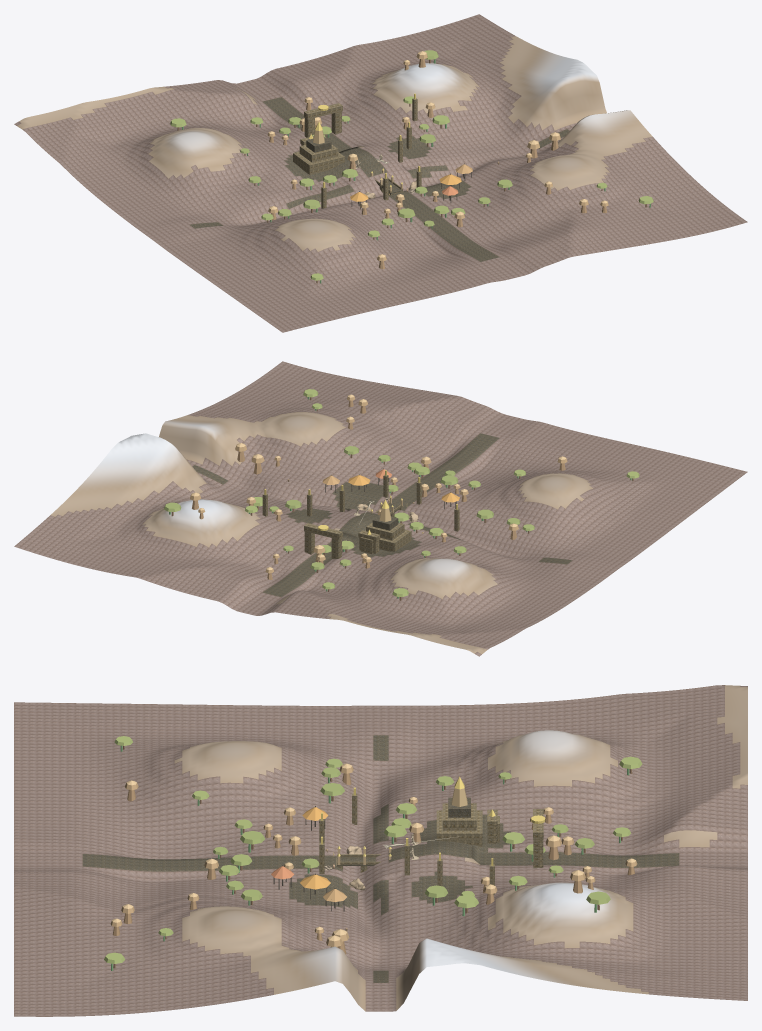
The model's file is world.glb.
3 views of the same model, one above another, from view 1: azimuth 30°, elevation 25°; view 2: azimuth 150°, elevation 25°; view 3: azimuth 270°, elevation 25° (orthographic). The views are drawn at different scales.
Parts seen in each view (by area): view 1: kar-veth_Terrain, kar-veth_ImportedCatalogAndFlora, kar-veth_Roads, kar-veth_Masonry; view 2: kar-veth_Terrain, kar-veth_ImportedCatalogAndFlora, kar-veth_Roads, kar-veth_Masonry; view 3: kar-veth_Terrain, kar-veth_ImportedCatalogAndFlora, kar-veth_Roads, kar-veth_Masonry.
Boxes of the visible parts, x1,y1,x2,y2 form: kar-veth_Terrain: [14, 14, 747, 332]; kar-veth_ImportedCatalogAndFlora: [17, 36, 653, 283]; kar-veth_Roads: [189, 97, 569, 261]; kar-veth_Masonry: [293, 98, 421, 208]; kar-veth_Terrain: [14, 361, 747, 656]; kar-veth_ImportedCatalogAndFlora: [50, 389, 639, 653]; kar-veth_Roads: [192, 433, 572, 597]; kar-veth_Masonry: [262, 475, 459, 559]; kar-veth_Terrain: [14, 685, 747, 1016]; kar-veth_ImportedCatalogAndFlora: [104, 685, 747, 1011]; kar-veth_Roads: [82, 735, 679, 982]; kar-veth_Masonry: [319, 793, 543, 894].
Size of the model in its own units: 224 by 27.71 by 224.
Materials: 5 (4 with a texture image).
